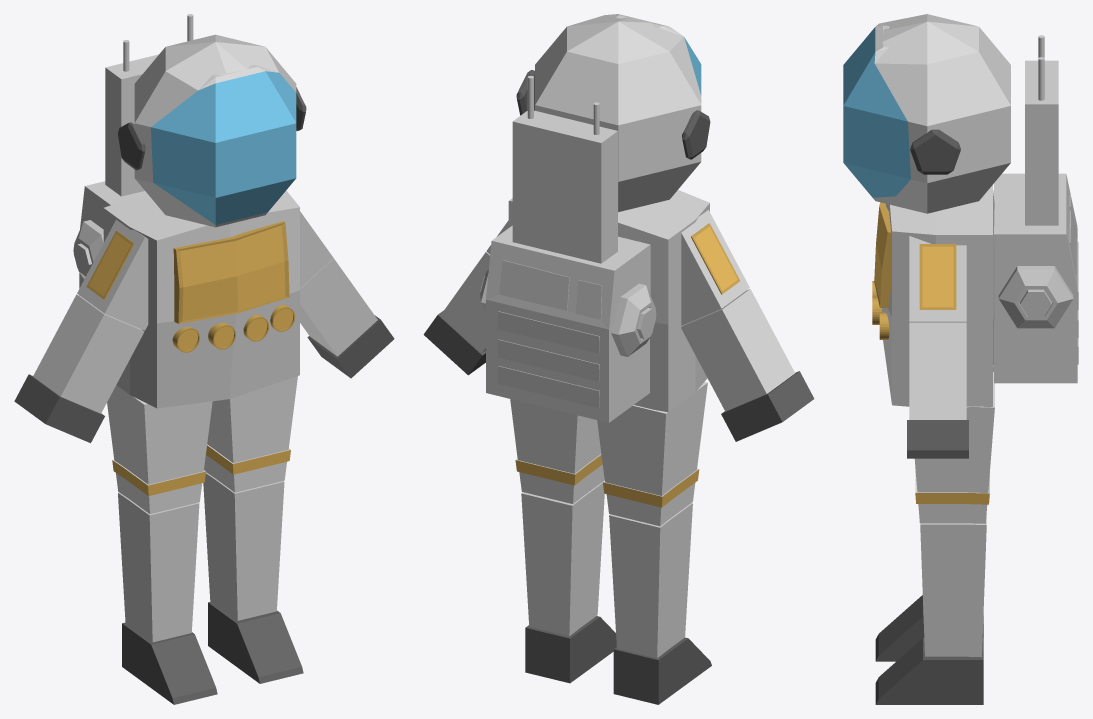
The model's file is veidrodis.gltf.
3 renders of one model, left to right at view 1: azimuth 30°, elevation 25°; view 2: azimuth 150°, elevation 25°; view 3: azimuth 270°, elevation 25°, orthographic. The views are drawn at different scales.
Visible parts, largest first — view 1: veidrodis; view 2: veidrodis; view 3: veidrodis.
Boxes of the visible parts, x1=… form: veidrodis: x1=14, y1=14, x2=394, y2=704; veidrodis: x1=423, y1=14, x2=814, y2=704; veidrodis: x1=843, y1=14, x2=1078, y2=704.
Bounding box in the file's own units: 1.06 × 1.82 × 0.596.
